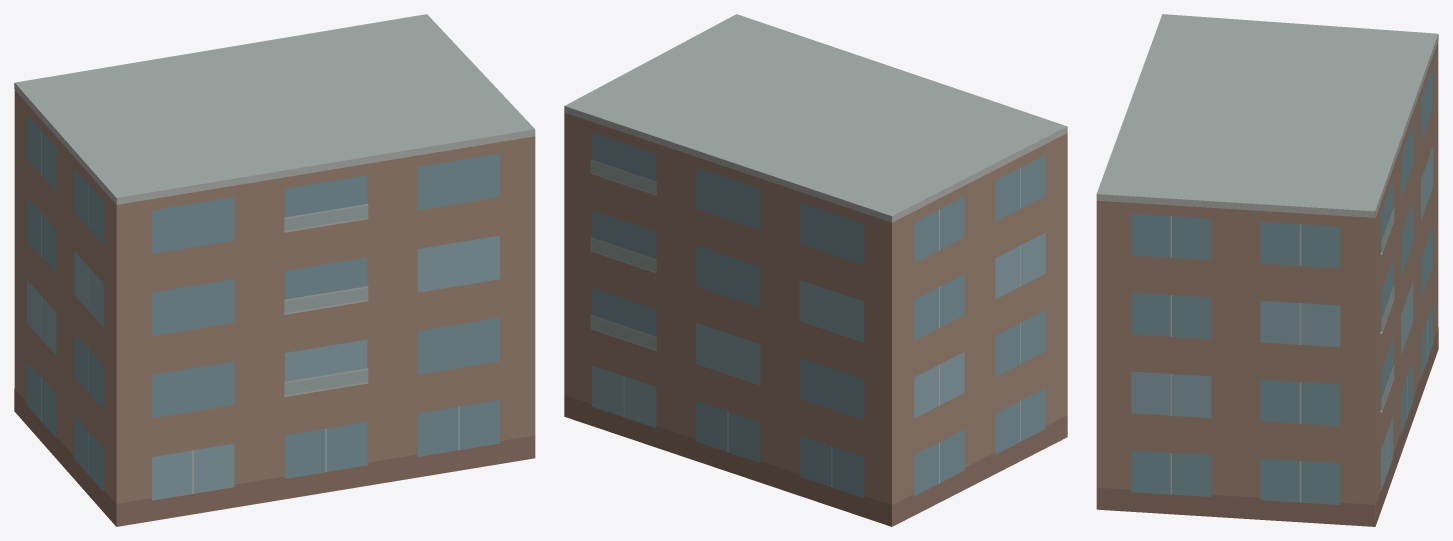
File: survey-upis-32908349.glb
3 renders of one model, left to right at view 1: azimuth 30°, elevation 25°; view 2: azimuth 150°, elevation 25°; view 3: azimuth 270°, elevation 25°, orthographic. The views are drawn at different scales.
Parts seen in each view (by area): view 1: survey-upis-32908349.tmp; view 2: survey-upis-32908349.tmp; view 3: survey-upis-32908349.tmp.
Boxes of the visible parts, bbox=[...] form: survey-upis-32908349.tmp: bbox=[14, 14, 535, 526]; survey-upis-32908349.tmp: bbox=[564, 14, 1067, 526]; survey-upis-32908349.tmp: bbox=[1096, 14, 1438, 526].
Size of the model in its own units: 15.71 by 11.7 by 11.5.
